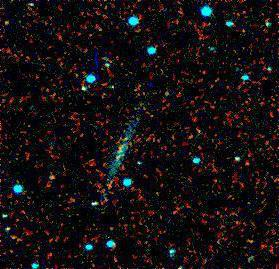star: (0, 12, 24, 42)
